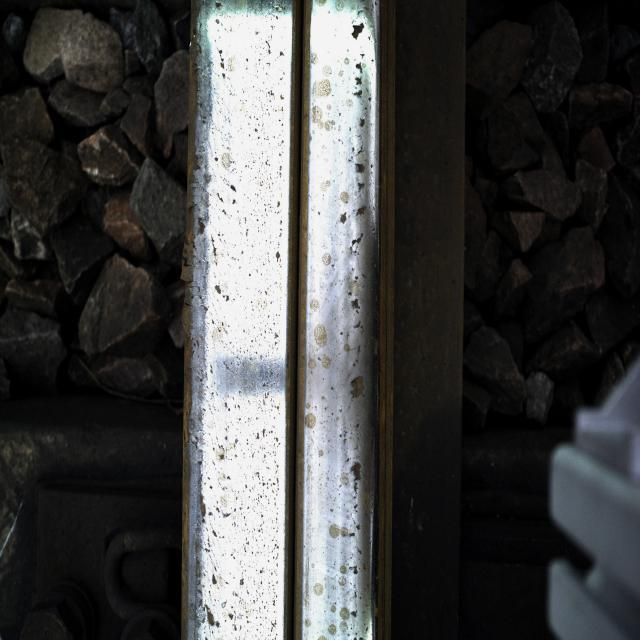scar: (196, 19, 275, 476), (318, 8, 372, 578)
